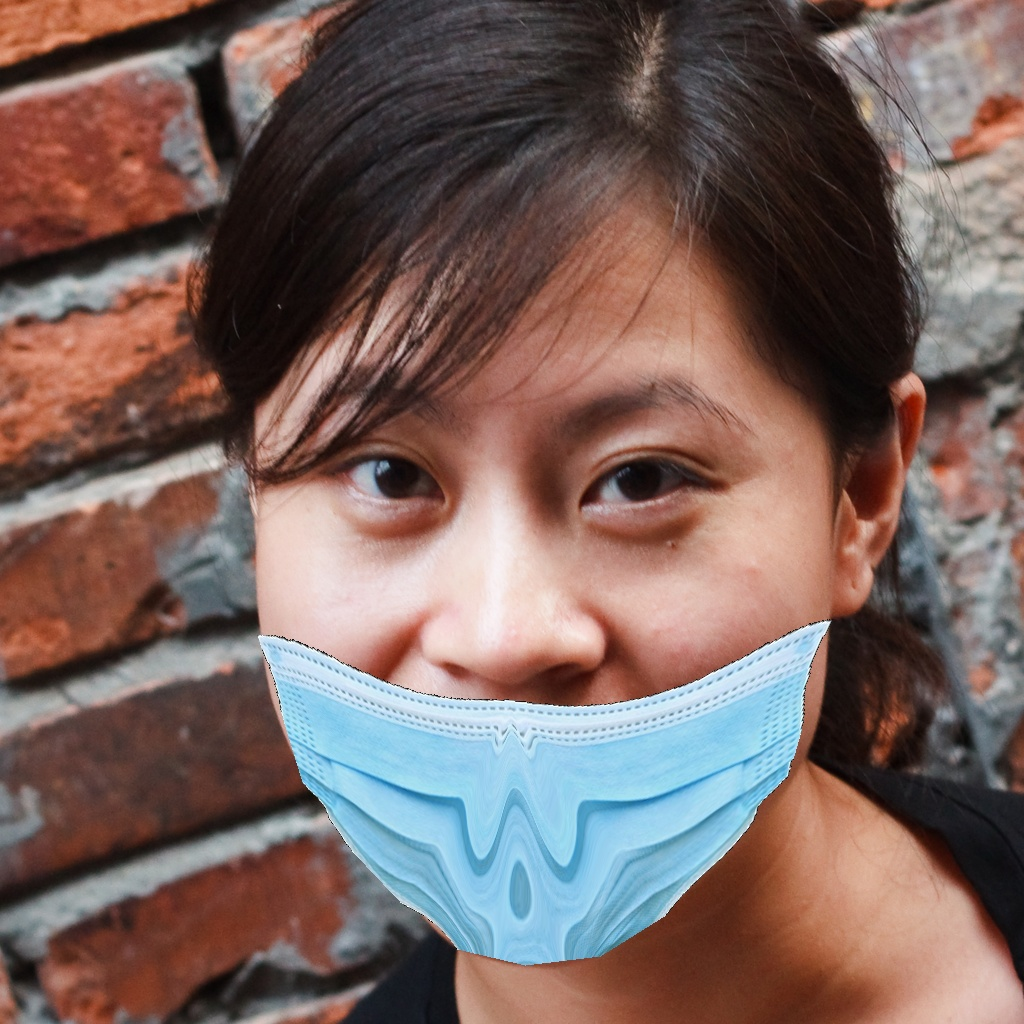mask_weared_incorrect: (233, 351, 873, 972)
